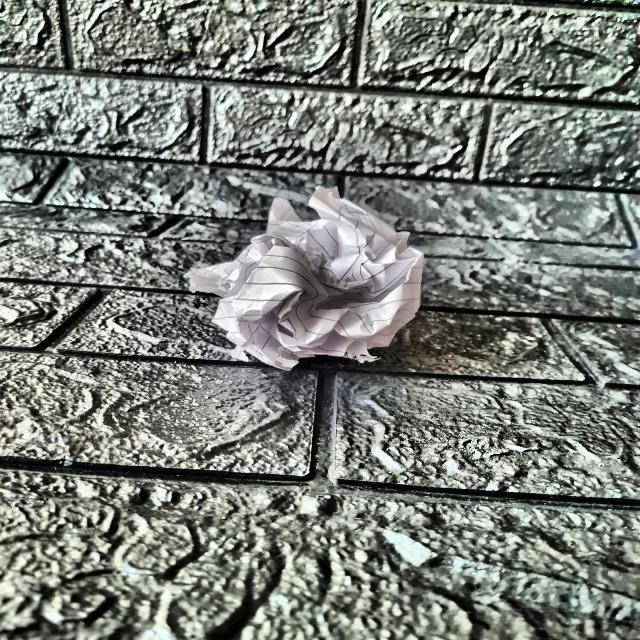Paper: (199, 190, 438, 366)
